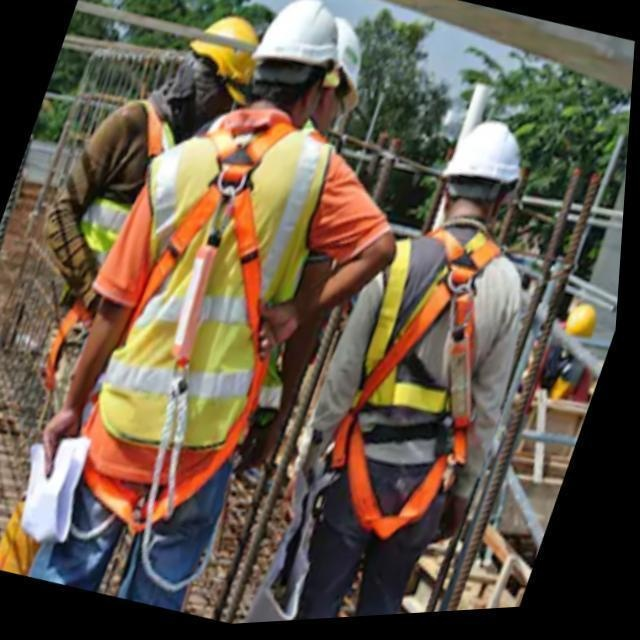Arnes_seguridad: (129, 120, 304, 497), (346, 232, 502, 518)
